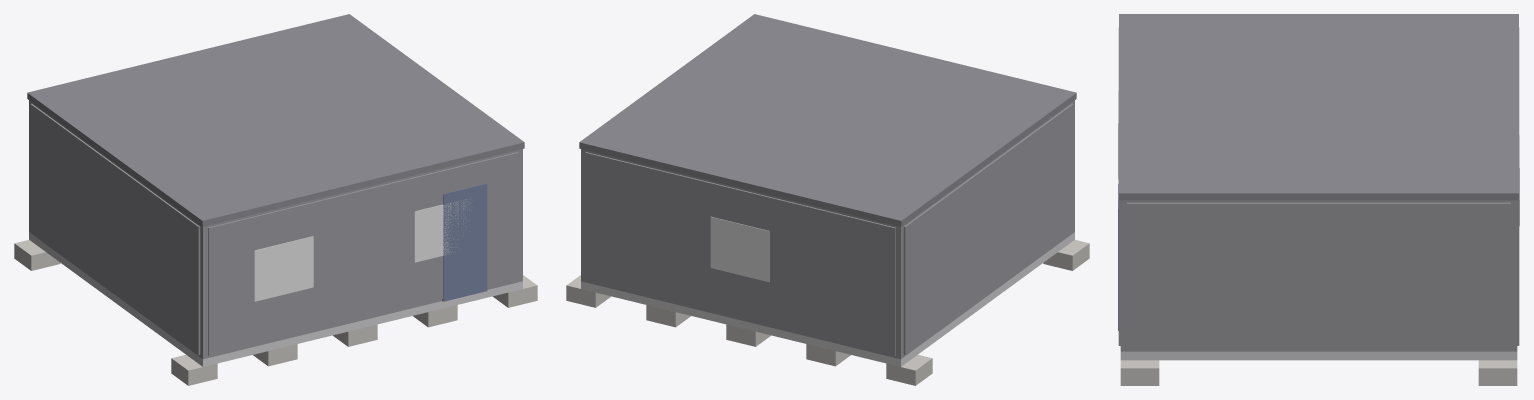
The model's file is Studio-20-Base-AncientWallGrey-LOD1.glb.
3 views of the same model, side by side, from view 1: azimuth 30°, elevation 25°; view 2: azimuth 150°, elevation 25°; view 3: azimuth 270°, elevation 25° (orthographic). The views are drawn at different scales.
Visible parts, largest first — view 1: RoofMain, ExteriorPanelsStandard, WindowsStandard, EntryDoor, FoundationBlocks, BaseFrame, ExteriorShell; view 2: ExteriorPanelsStandard, RoofMain, FoundationBlocks, BaseFrame, ExteriorShell, WindowsStandard; view 3: RoofMain, ExteriorPanelsStandard, ExteriorShell, BaseFrame, FoundationBlocks.
Part boxes in pixels (bbox=[...]): RoofMain: bbox=[27, 14, 524, 226]; ExteriorPanelsStandard: bbox=[30, 103, 518, 355]; WindowsStandard: bbox=[254, 199, 471, 301]; EntryDoor: bbox=[442, 183, 487, 301]; FoundationBlocks: bbox=[14, 240, 537, 385]; BaseFrame: bbox=[29, 232, 522, 366]; ExteriorShell: bbox=[29, 100, 522, 359]; ExteriorPanelsStandard: bbox=[585, 103, 1073, 355]; RoofMain: bbox=[579, 14, 1076, 226]; FoundationBlocks: bbox=[566, 240, 1089, 385]; BaseFrame: bbox=[581, 232, 1074, 366]; ExteriorShell: bbox=[581, 100, 1074, 359]; WindowsStandard: bbox=[710, 216, 769, 281]; RoofMain: bbox=[1119, 14, 1518, 200]; ExteriorPanelsStandard: bbox=[1118, 27, 1519, 349]; ExteriorShell: bbox=[1120, 200, 1517, 351]; BaseFrame: bbox=[1120, 351, 1517, 360]; FoundationBlocks: bbox=[1120, 360, 1517, 385].
Bounding box in the file's own units: 7.14 × 3.17 × 6.24.
